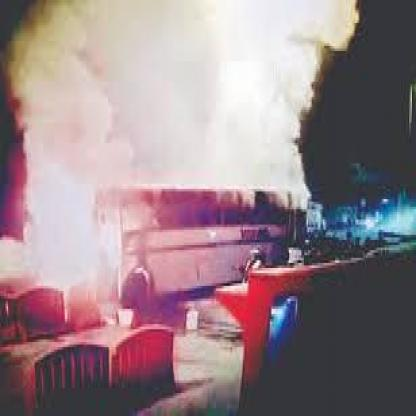fire: (31, 177, 115, 278)
smoke: (12, 16, 307, 154)
